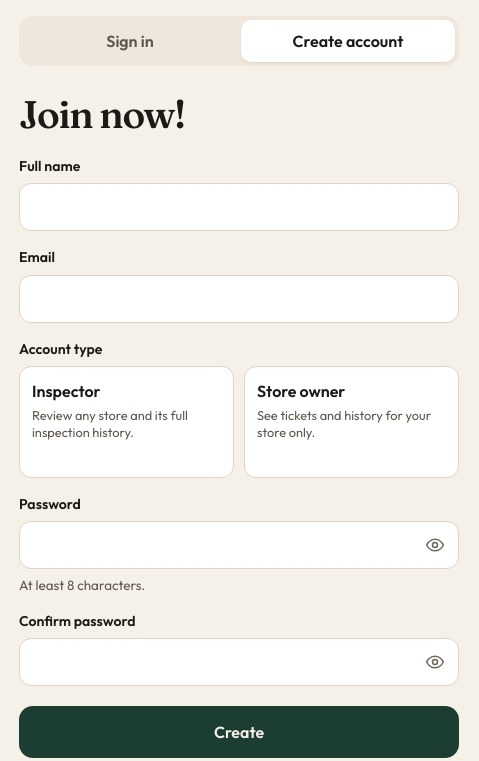
US 12 Create an account › keeps the email but clears passwords when switching to sign in
The width and height of the screenshot is (479, 761).
Type "ada@example.com" into the field labelled "Email" at (239, 298), box [19,274,459,322]
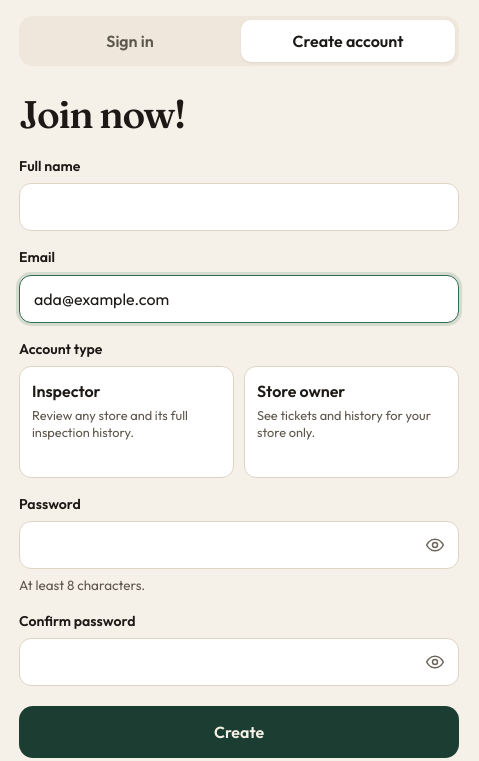
Type "correct-horse" into the password field labelled "Password" at (239, 545), box [19,521,459,569]
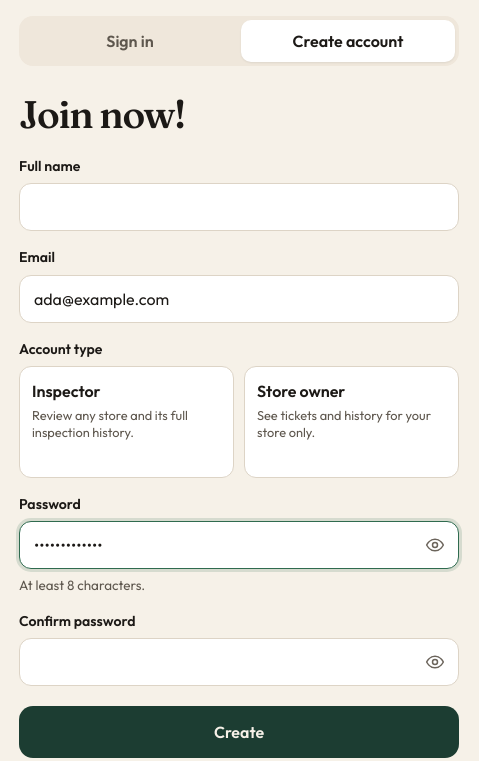
Type "correct-horse" into the password field labelled "Confirm password" at (239, 662), box [19,638,459,686]
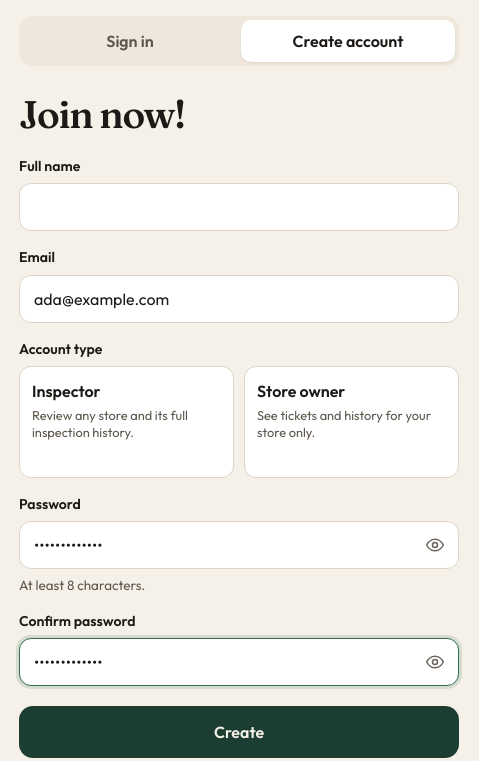
Click the button "Create" at (239, 732), box [19,706,459,758]
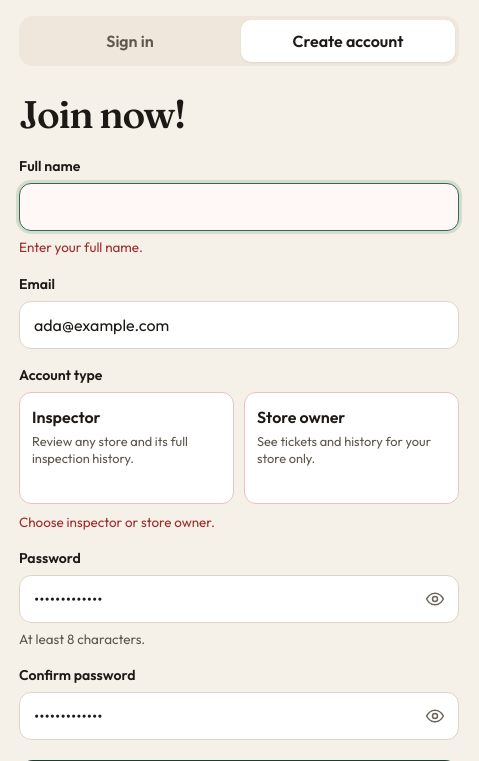
Click the button "Sign in" at (130, 41), box [23,20,237,62]
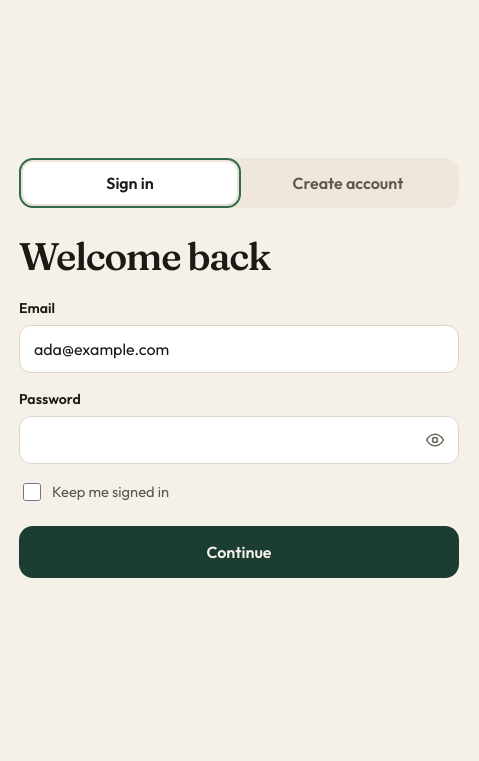
Check: the password field labelled "Password" is empty, box [19,416,459,464]
Check: the text "Enter your full name." is gone
